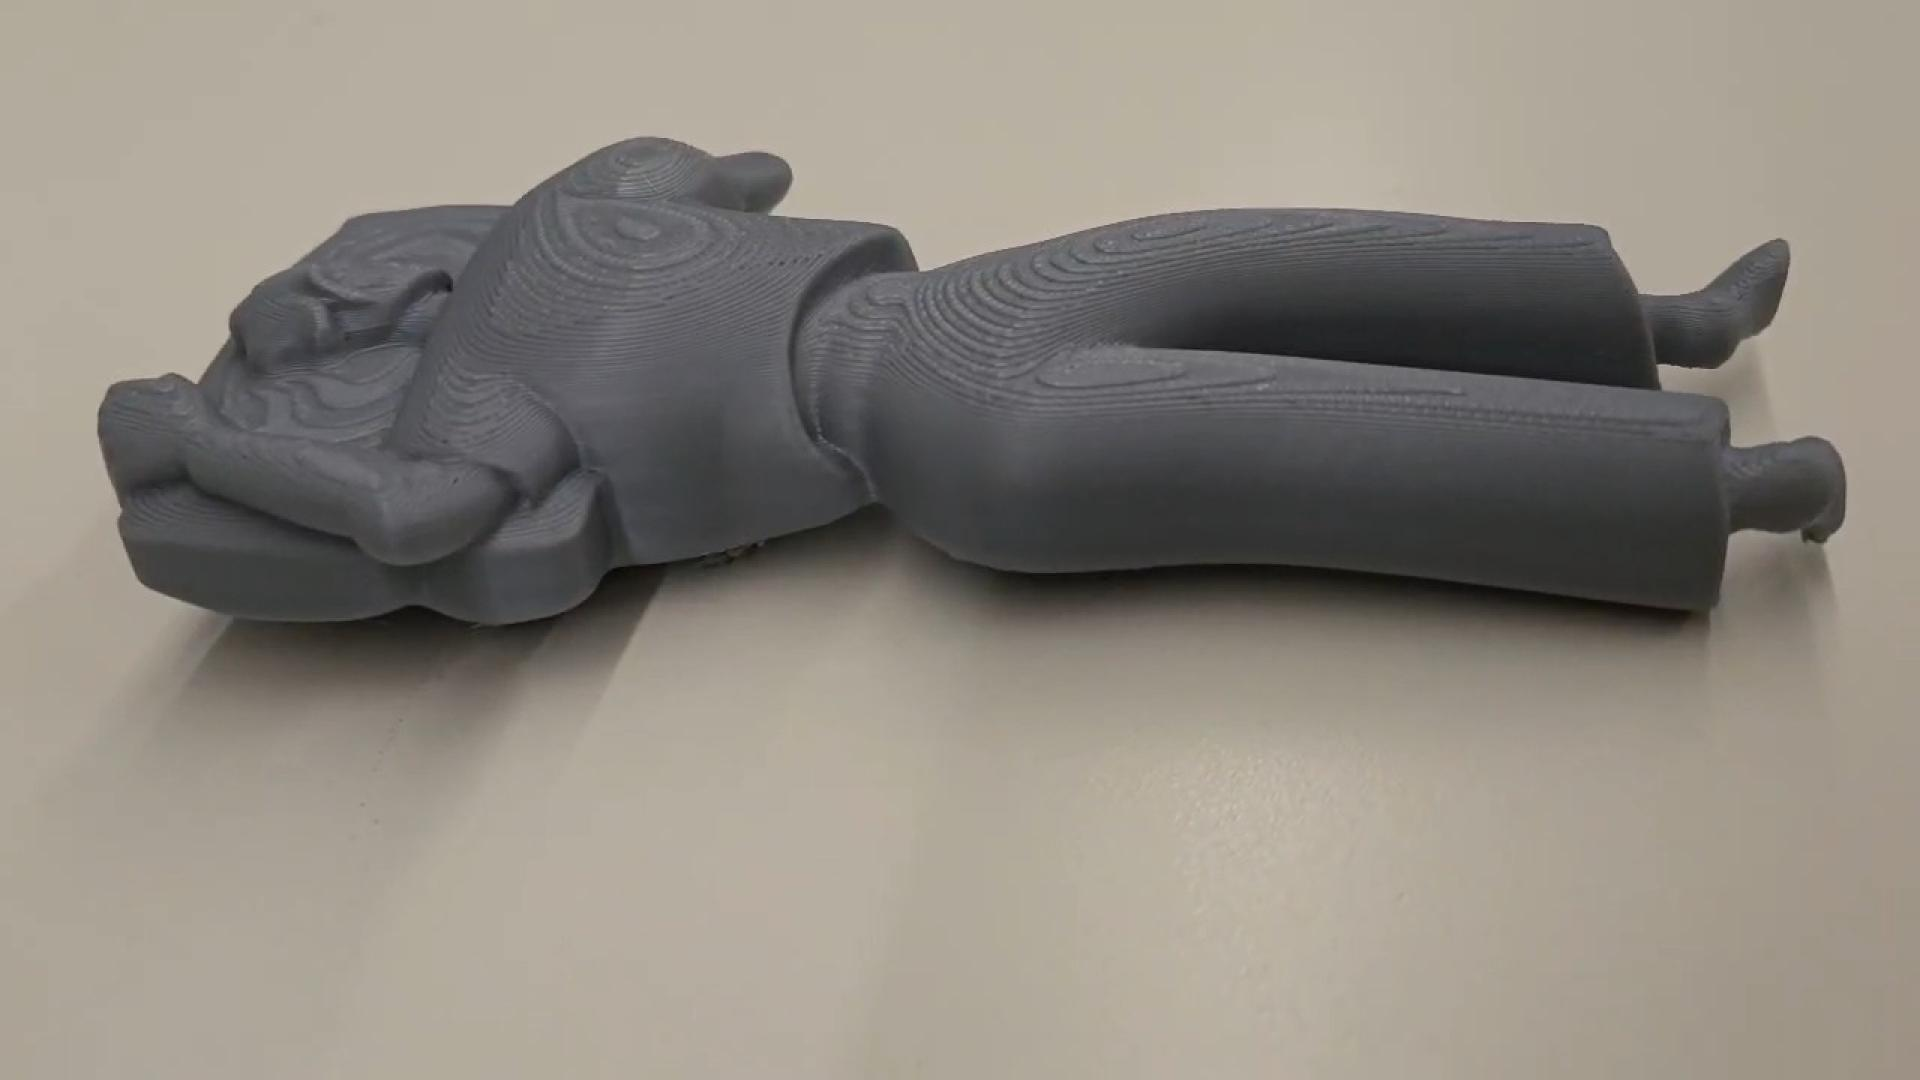Bad-style: (83, 131, 1857, 629)
